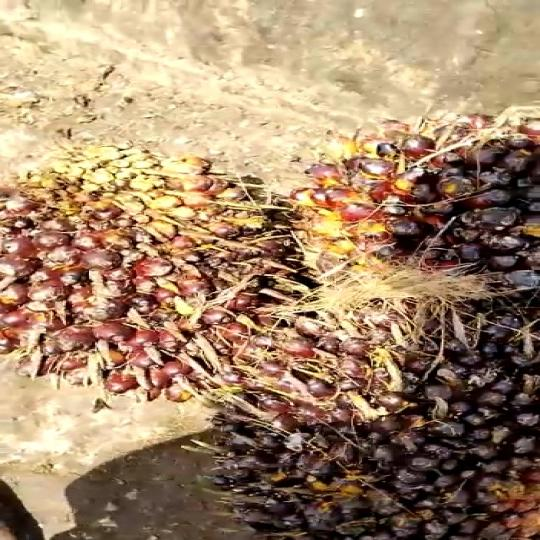kurang masak: (211, 298, 540, 540), (0, 147, 311, 401), (298, 98, 540, 278)
